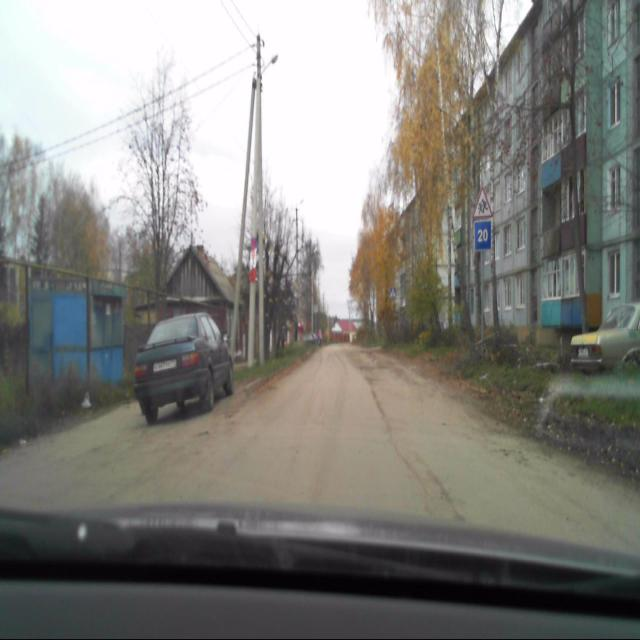road sign: (472, 188, 492, 217), (473, 220, 492, 248)
